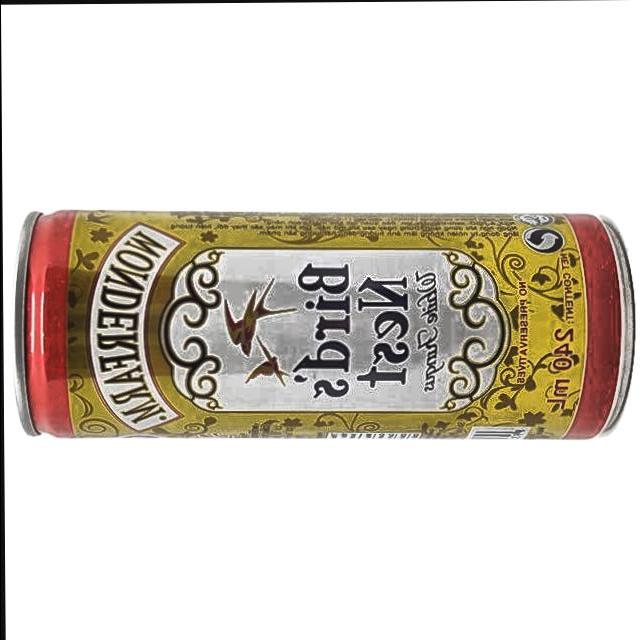Aluminum Can: (1, 198, 640, 455)
